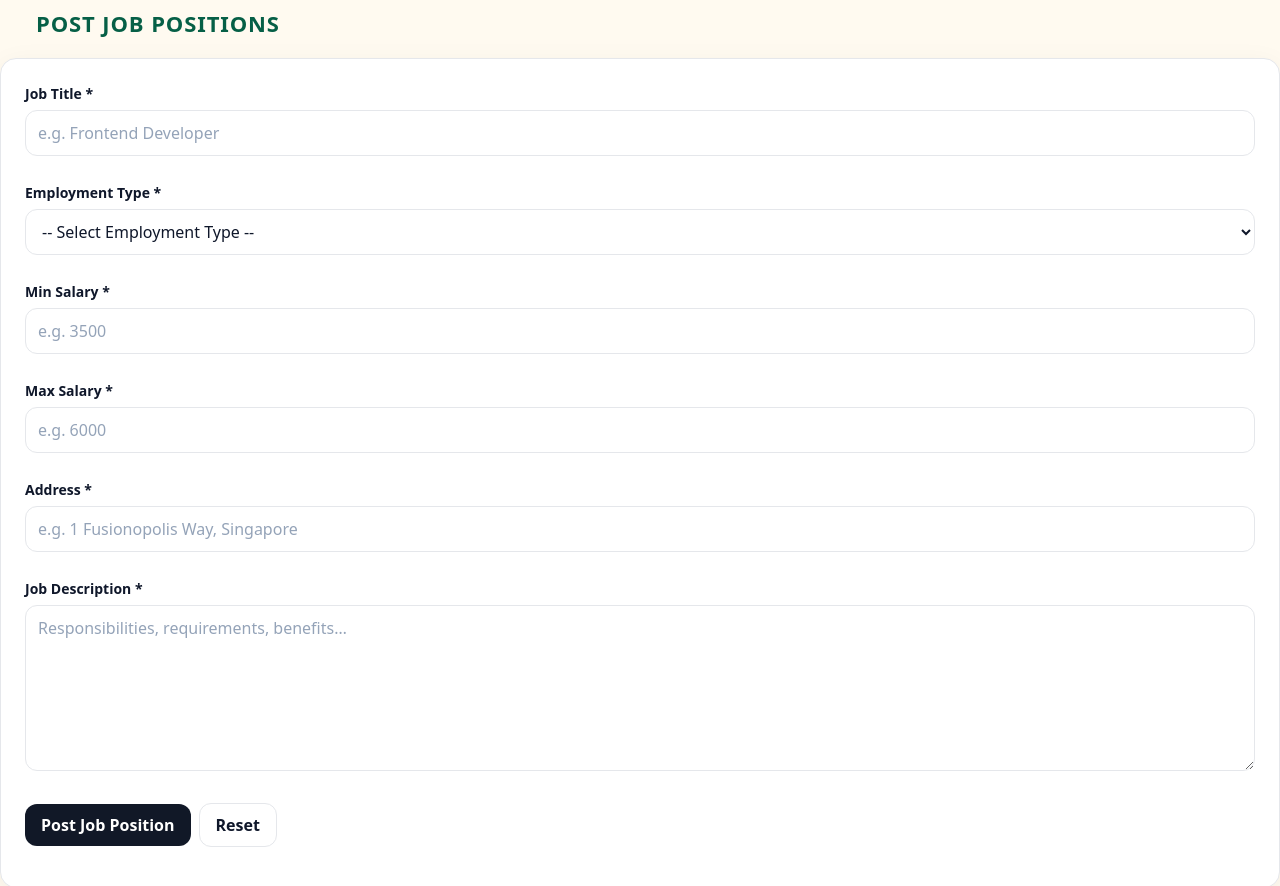
Test: Reset clears fields and errors
(page scrolled)
Click the button "Post Job Position" at [108, 825], box [25,804,190,846]
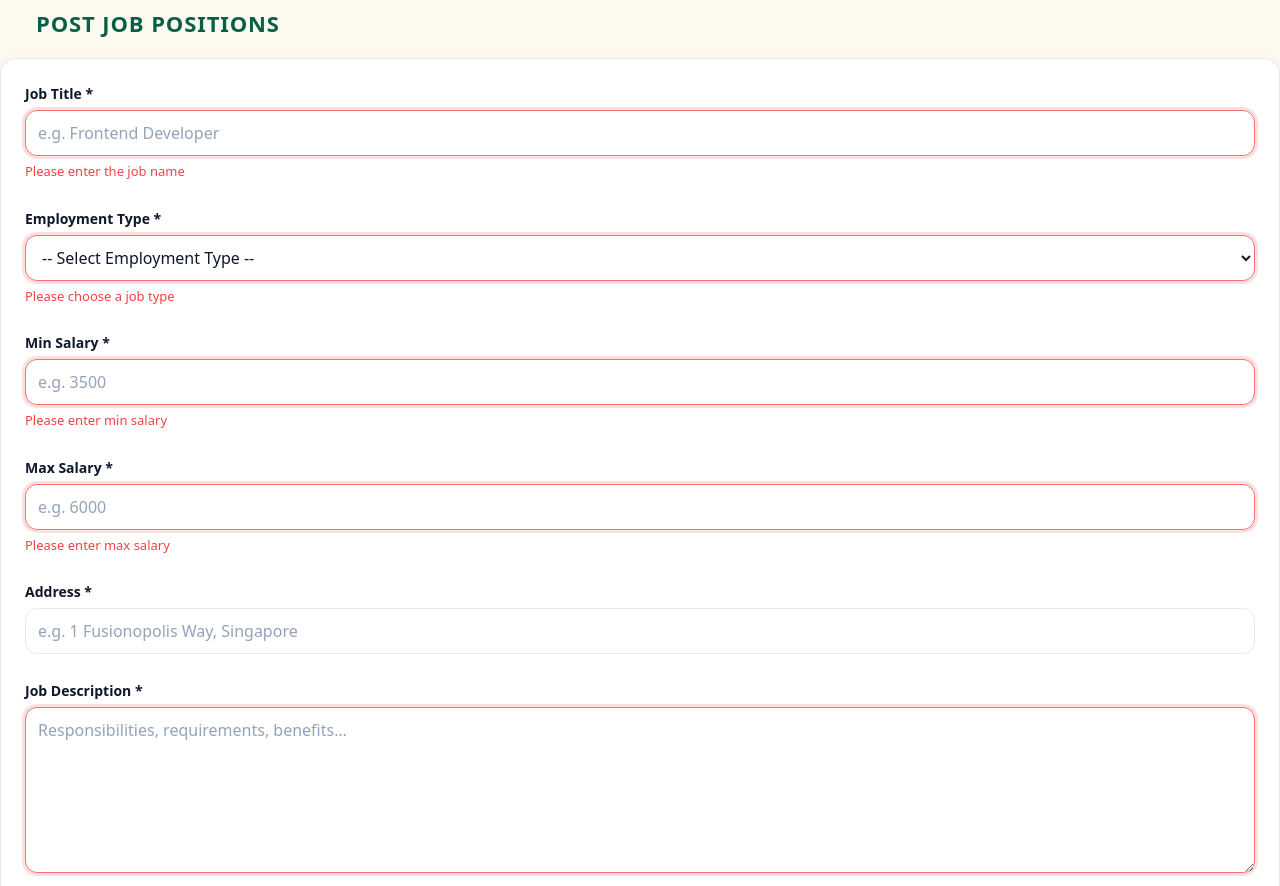
Check: the text "Please enter the job name" is shown, box [25,162,185,180]
Type "ABC" into the field labelled "Job Title *" at [640, 133], box [25,110,1255,156]
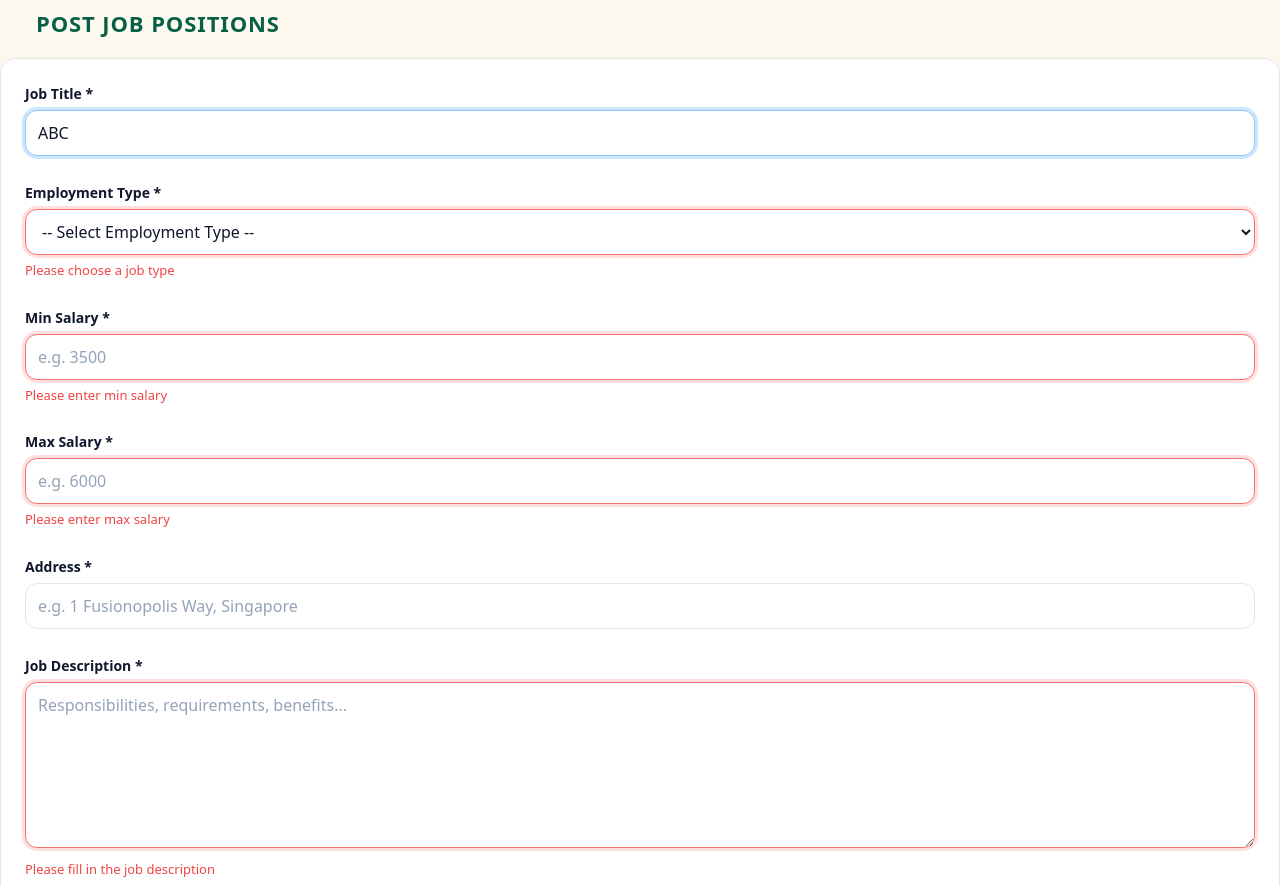
Type "SG" into the field labelled "Address *" at [640, 606], box [25,582,1255,628]
(page scrolled)
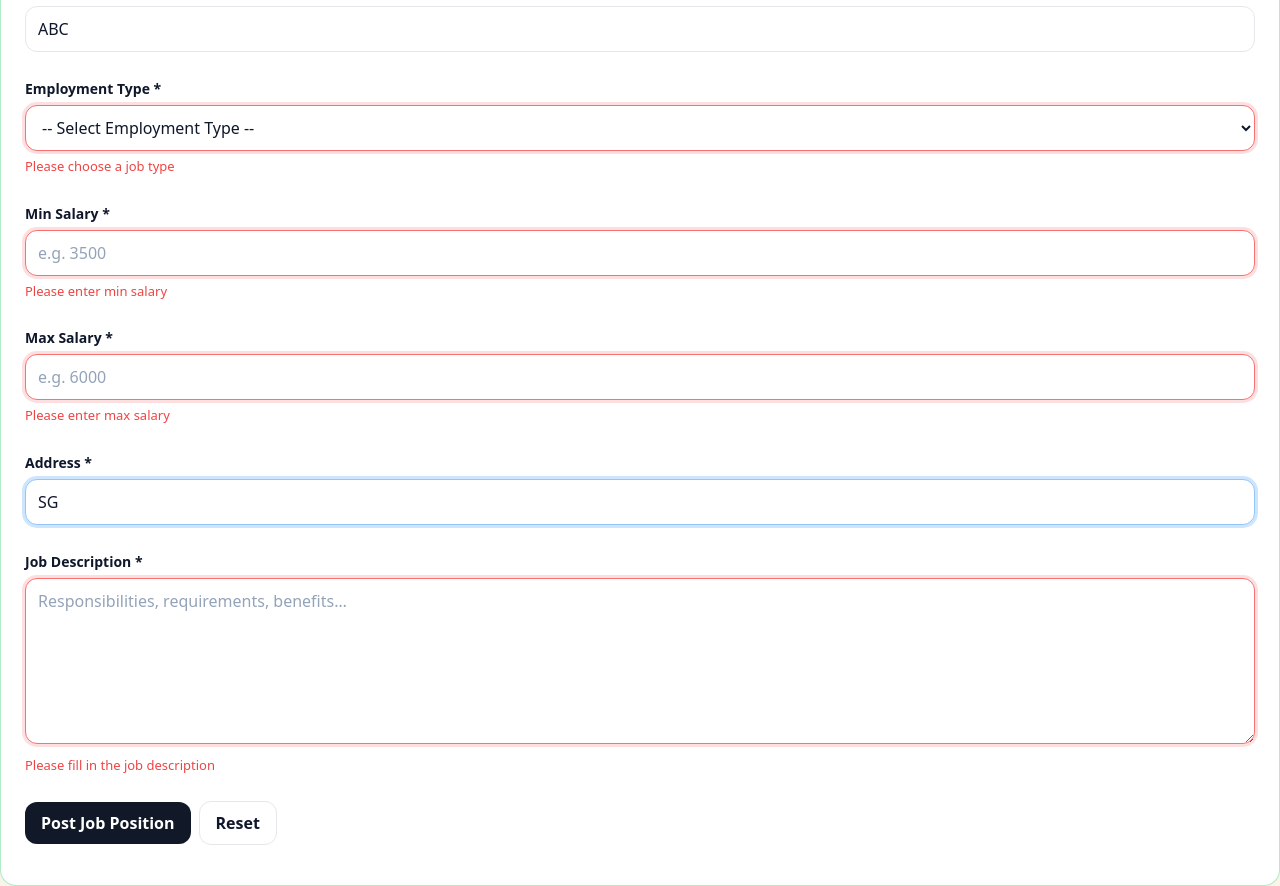
Click the button "Reset" at [238, 823], box [198,801,277,845]
(page scrolled)
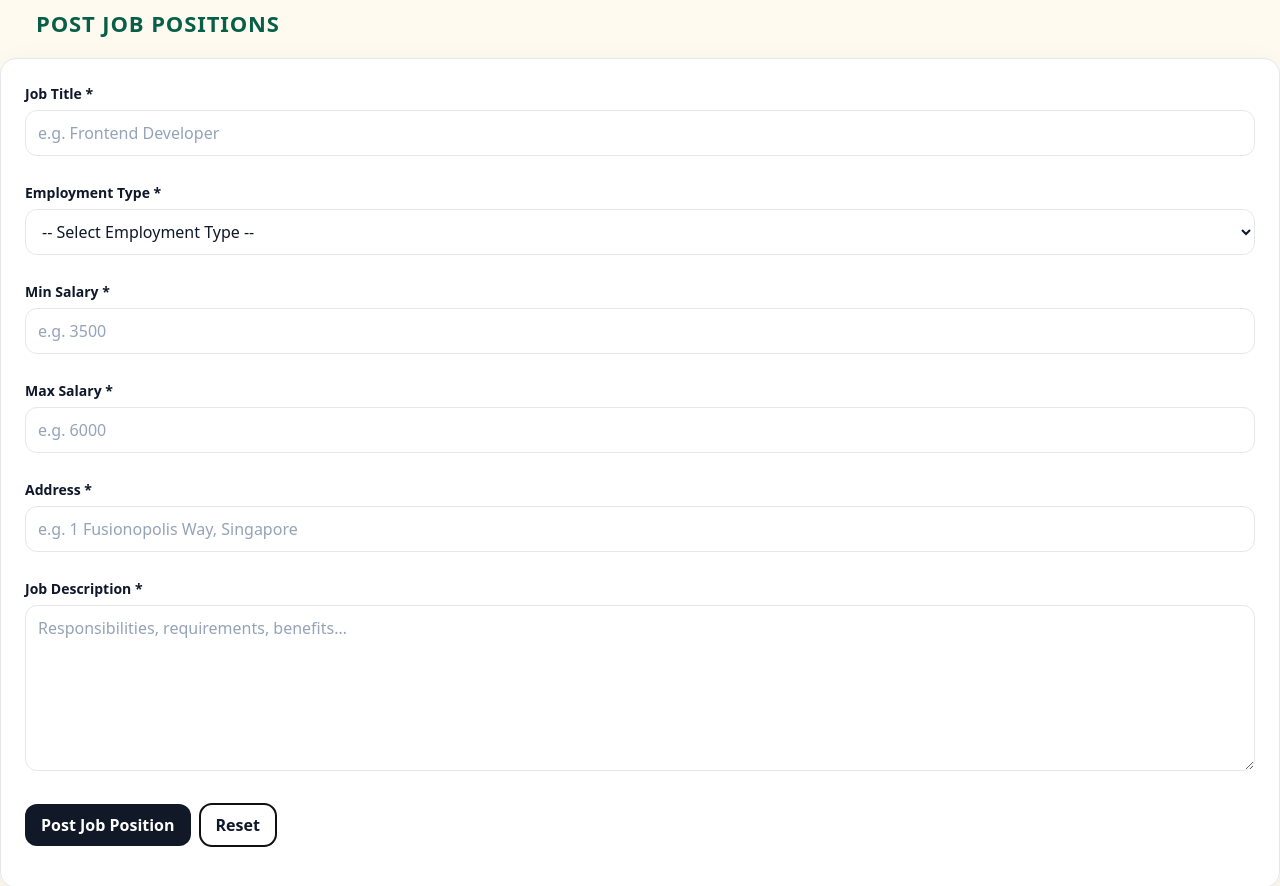
Check: the text "Please enter the job name" is not shown
Check: the field labelled "Job Title *" is empty, box [25,110,1255,156]
Check: the field labelled "Address *" is empty, box [25,506,1255,552]
